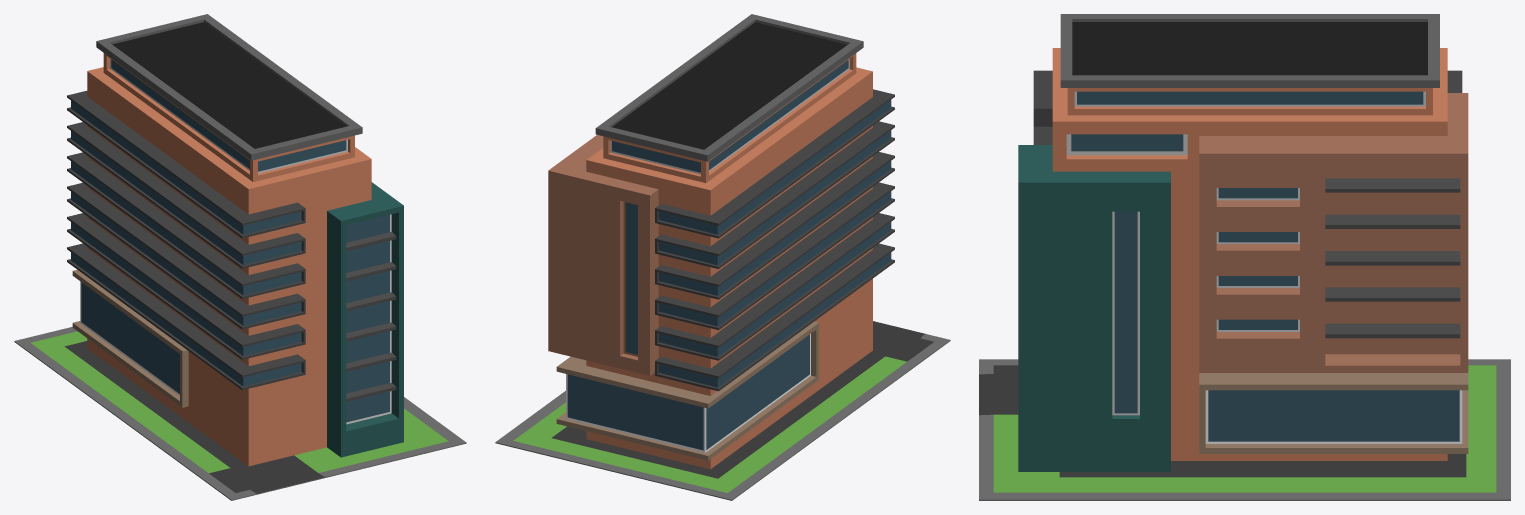
The model's file is flats-c.glb.
3 renders of one model, left to right at view 1: azimuth 30°, elevation 25°; view 2: azimuth 150°, elevation 25°; view 3: azimuth 270°, elevation 25°, orthographic. The views are drawn at different scales.
Parts seen in each view (by area): view 1: highlivingbuilding_c; view 2: highlivingbuilding_c; view 3: highlivingbuilding_c.
Boxes of the visible parts, <box> form: highlivingbuilding_c: <box>14,14,466,500</box>; highlivingbuilding_c: <box>495,14,950,500</box>; highlivingbuilding_c: <box>979,14,1510,500</box>.
Size of the model in its own units: 25 by 31.4 by 40.
Materials: 1 (1 with a texture image).
